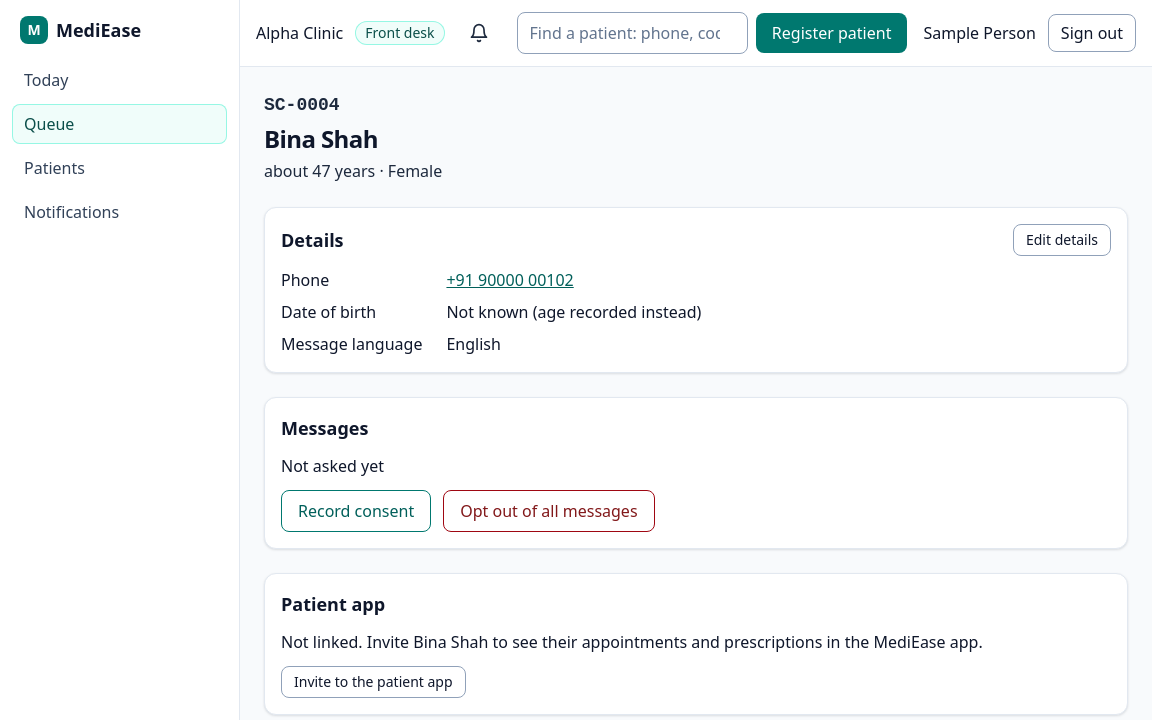
Scenario: Patient app card (M6b-P1, decision 8A) › R1: invites, shows the link once with its QR code, and says it expires
Expected: the text "Not linked" is shown, 281,631 -> 413,653
Step 1. Click the button "Invite to the patient app" → (373, 682), box 281,666 -> 466,698
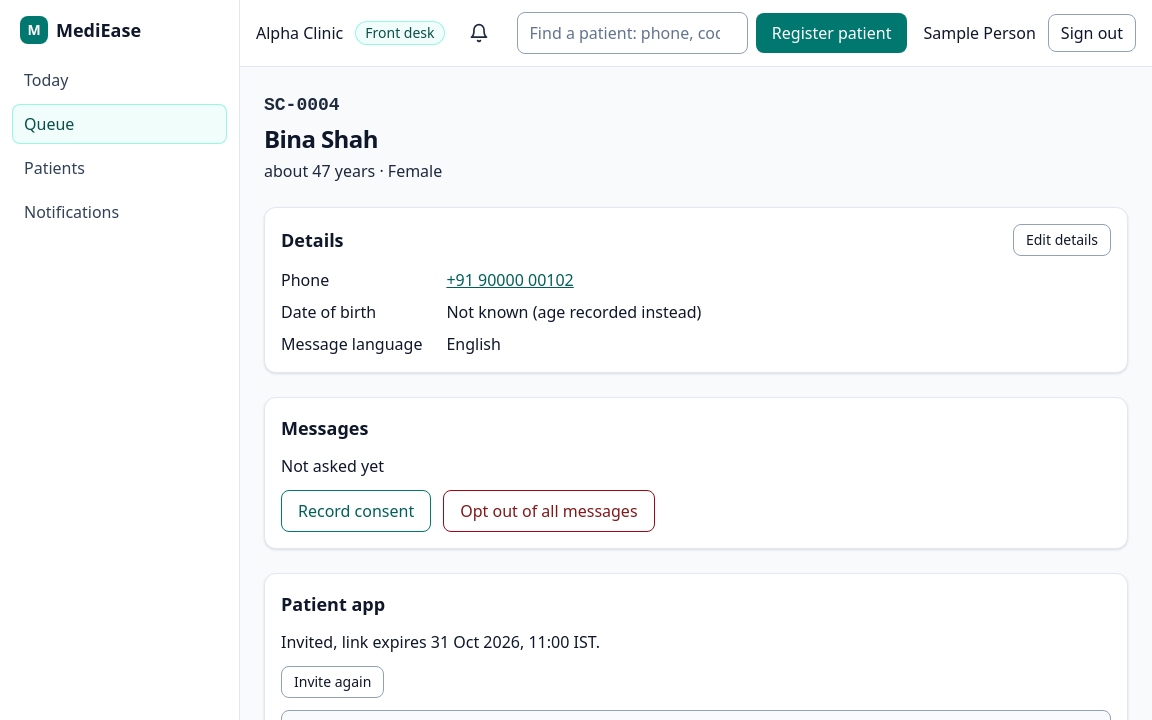
Expected: the text "Invited, link expires 31 Oct 2026, 11:00 IST." is shown, 281,631 -> 600,653
Expected: the button "Invite again" is shown, 281,666 -> 384,698
